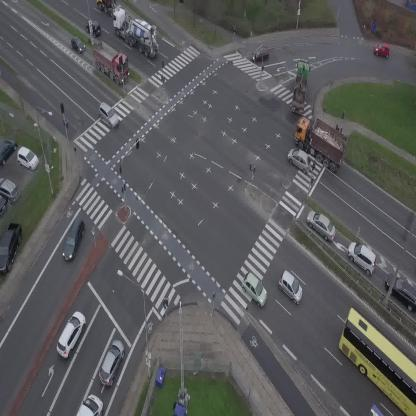car: (51, 309, 90, 360), (95, 337, 129, 388), (342, 237, 384, 277), (302, 205, 342, 243), (236, 271, 274, 308), (273, 269, 310, 305), (59, 217, 88, 262), (284, 144, 317, 175), (93, 101, 122, 129), (66, 34, 87, 57), (83, 19, 104, 39), (251, 46, 270, 61), (374, 43, 390, 57)
lorry: (285, 110, 356, 173), (102, 6, 168, 60), (84, 36, 138, 87), (289, 58, 312, 115), (76, 394, 103, 416), (97, 0, 121, 15)
